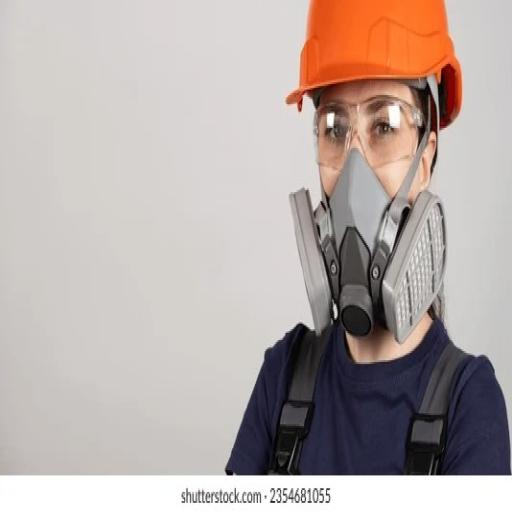mask: (292, 152, 451, 342)
